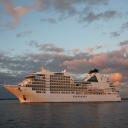cruises: (3, 61, 124, 106)
